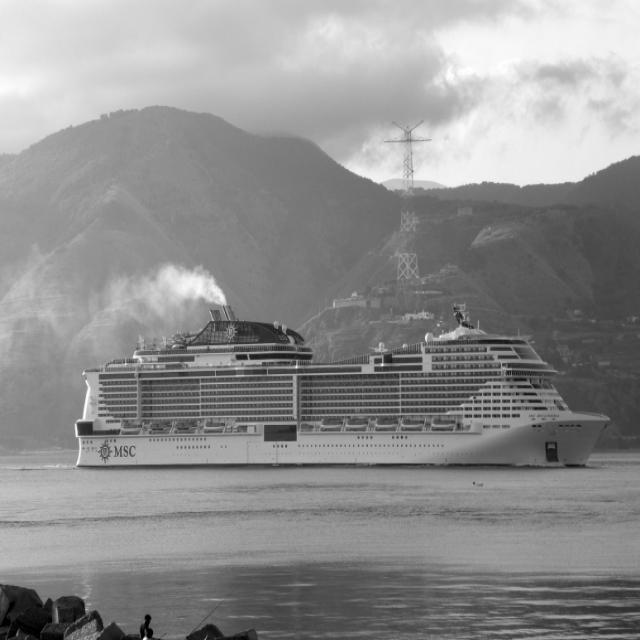cruises: (72, 284, 617, 478)
